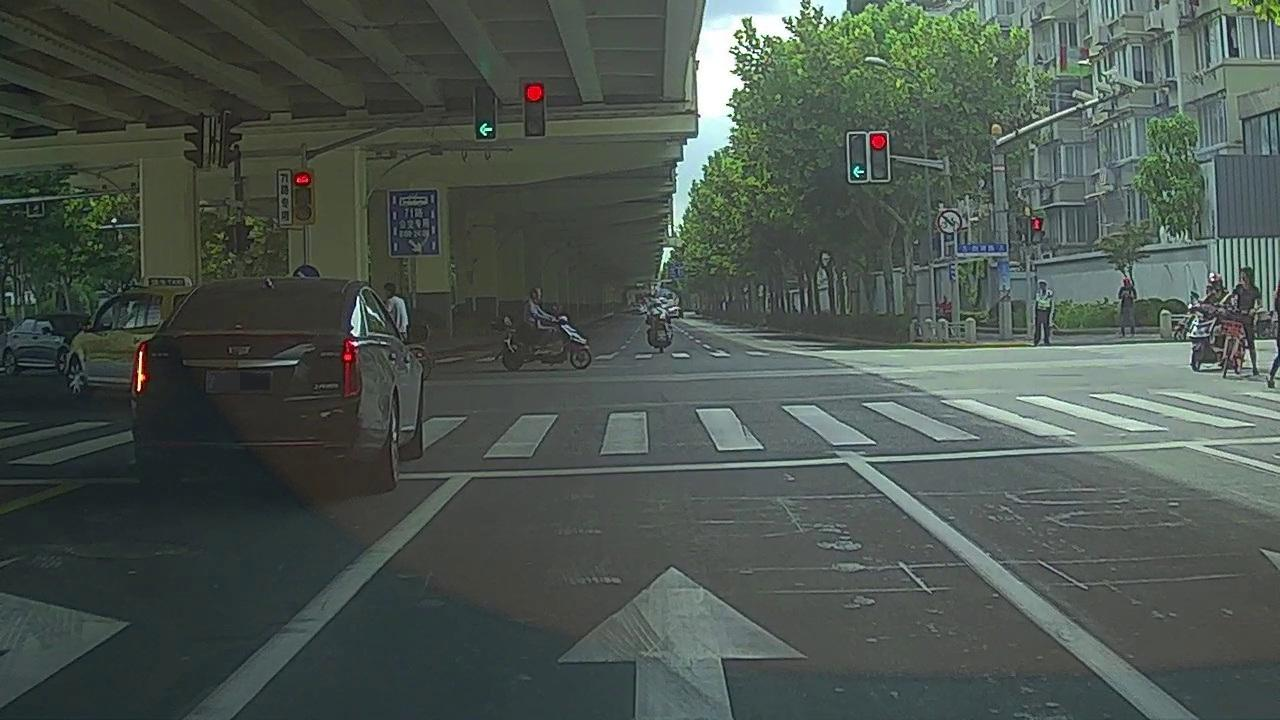traffic_light: (473, 85, 499, 142), (522, 83, 545, 139), (847, 131, 869, 182), (870, 130, 890, 182)
